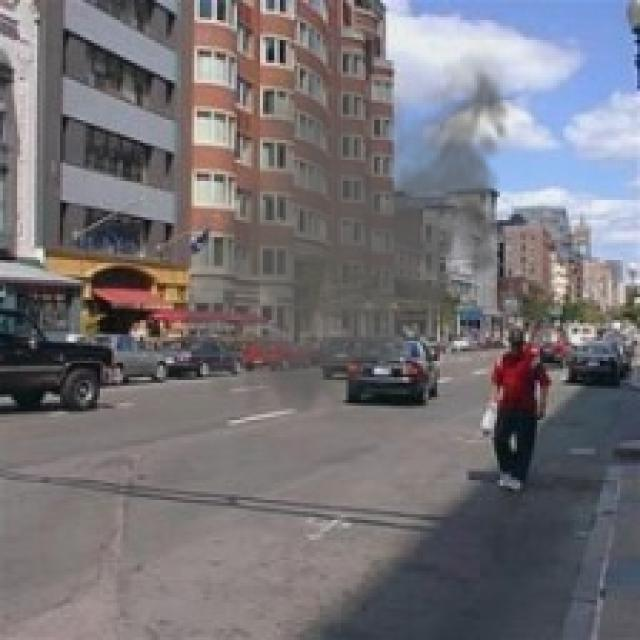smoke: (174, 26, 520, 434)
